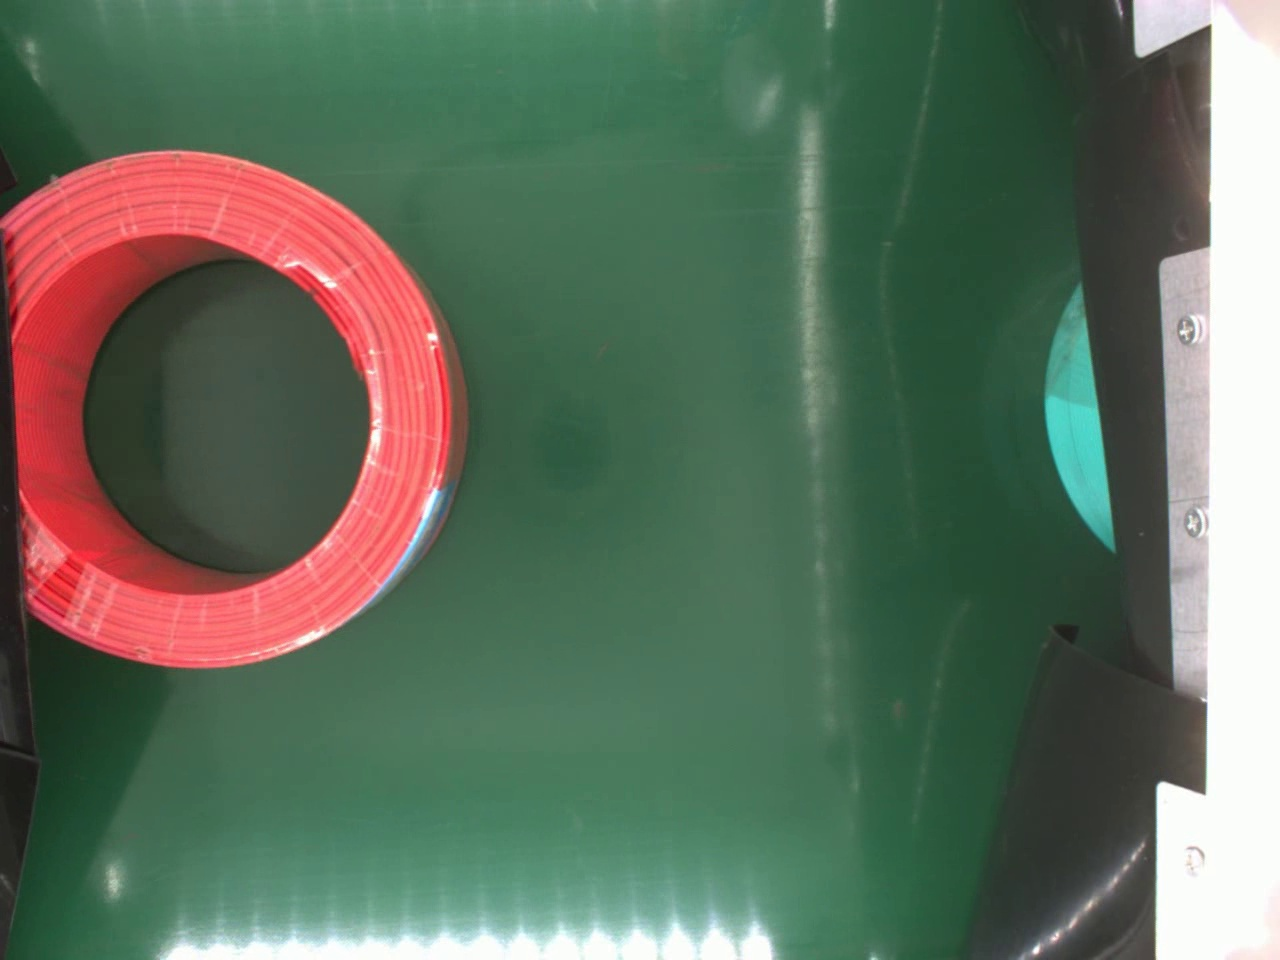red: (0, 145, 475, 671)
